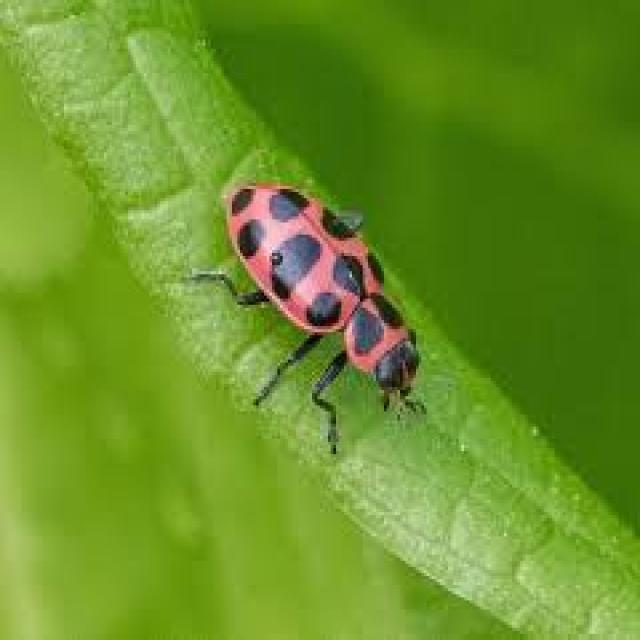bug: (184, 177, 433, 465)
